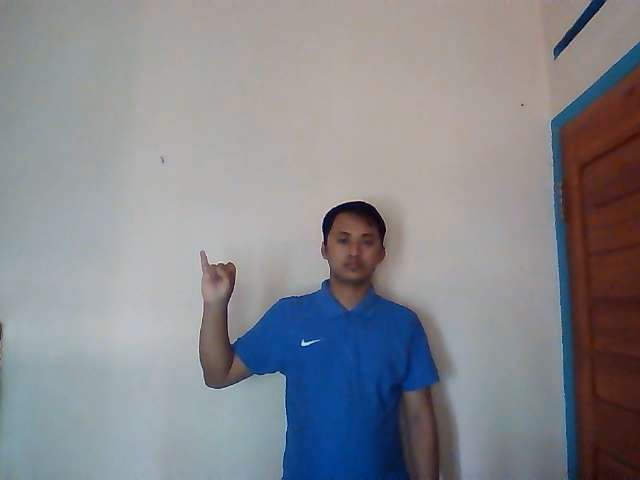I: (198, 247, 237, 302)
